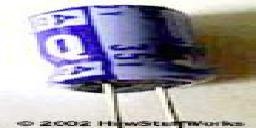Electrolytic-capacitor: (25, 4, 218, 116)
